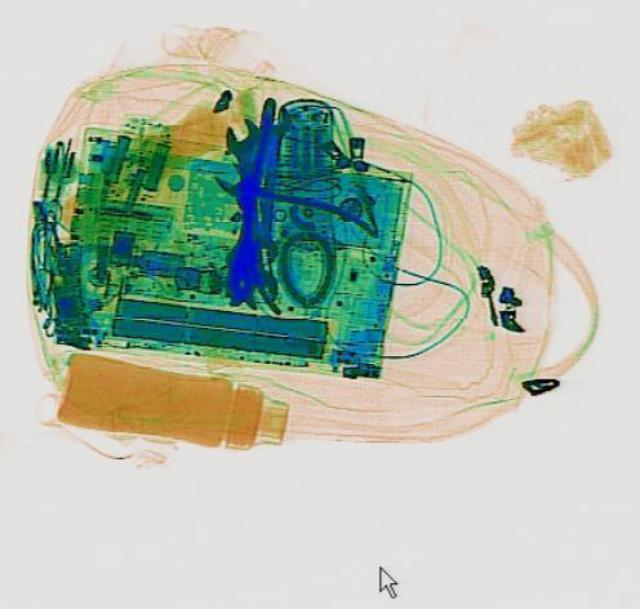Pliers: (172, 126, 384, 315)
Wrench: (216, 115, 282, 239)
